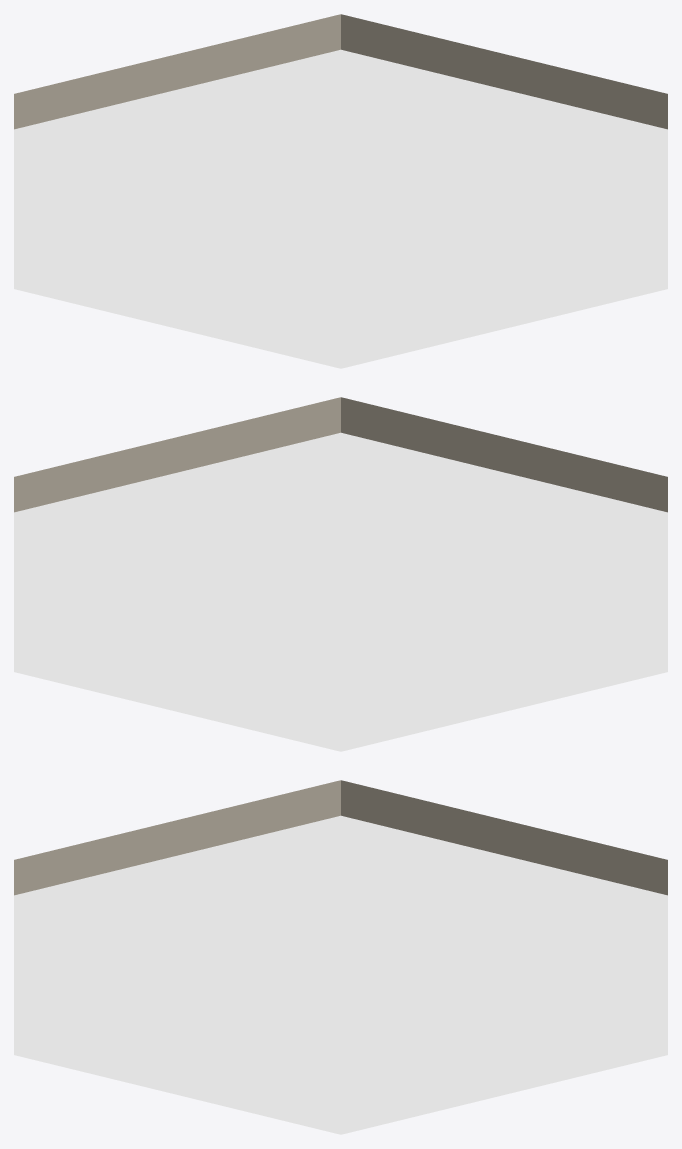
The model's file is card-slab.glb.
3 renders of one model, top to bottom at view 1: azimuth 30°, elevation 25°; view 2: azimuth 150°, elevation 25°; view 3: azimuth 270°, elevation 25°, orthographic.
Parts seen in each view (by area): view 1: Bottom, Edge; view 2: Bottom, Edge; view 3: Bottom, Edge.
Part boxes in pixels (x1,y1,x2,y2): Bottom: (14,49,667,368); Edge: (14,14,667,129); Bottom: (14,432,667,751); Edge: (14,397,667,512); Bottom: (14,815,667,1134); Edge: (14,780,667,895).
Bounding box in the file's own units: 1.15 × 0.06 × 1.
